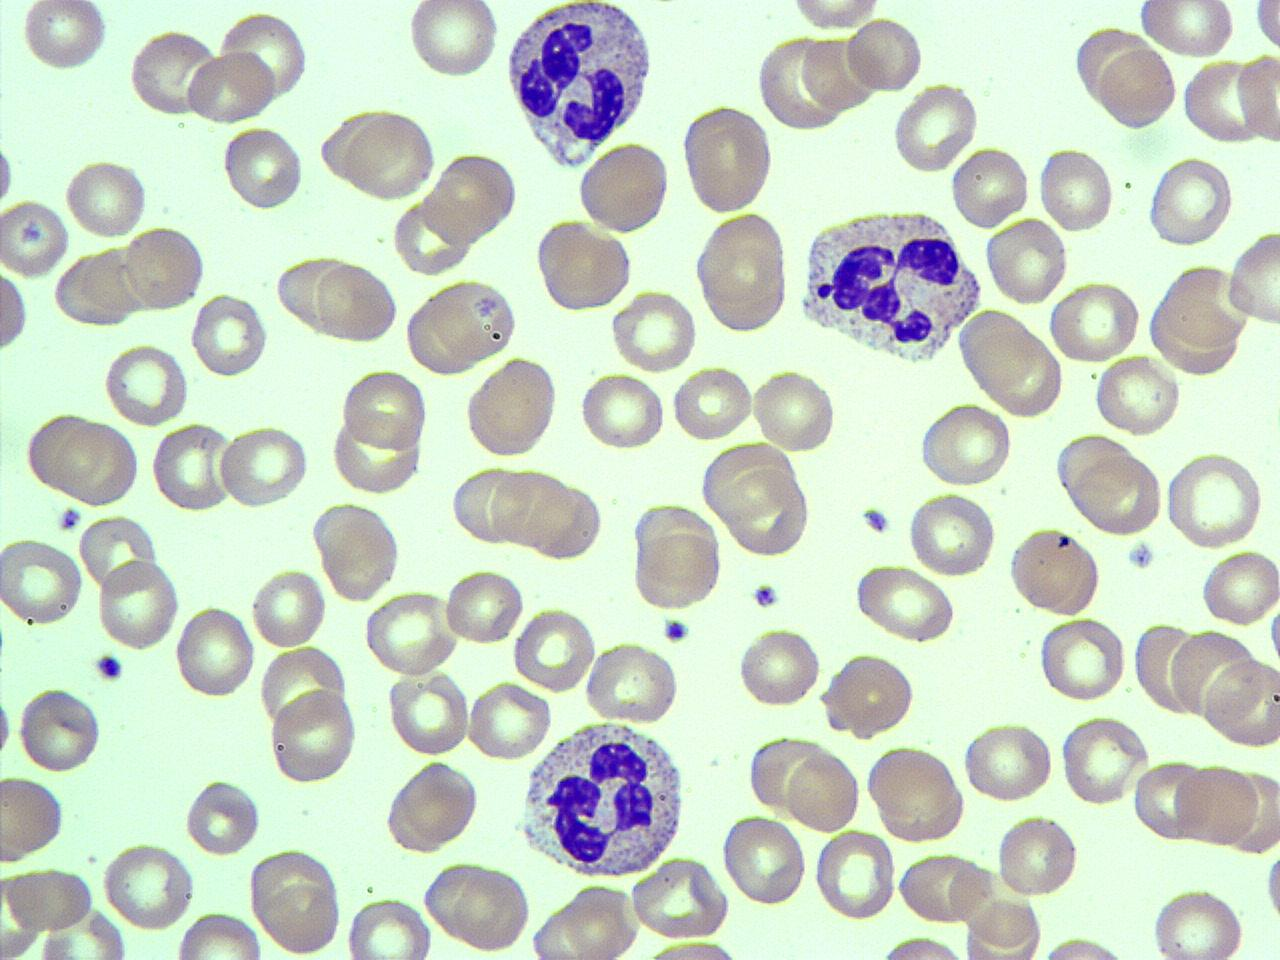Platelets: (0, 689, 16, 763), (92, 650, 126, 684), (1123, 538, 1155, 572), (860, 505, 892, 536), (752, 581, 782, 611), (660, 616, 691, 644), (55, 503, 83, 532)
RBC: (692, 208, 791, 334), (956, 305, 1060, 414), (678, 103, 777, 217), (461, 353, 560, 461), (246, 846, 343, 956), (864, 742, 968, 844), (1164, 448, 1268, 549), (630, 501, 724, 612), (336, 106, 438, 202), (532, 217, 634, 312), (383, 759, 482, 854), (576, 138, 670, 238), (268, 687, 360, 789), (423, 151, 522, 245), (311, 501, 404, 601), (1006, 524, 1103, 618), (437, 860, 533, 954), (218, 6, 310, 104), (100, 840, 197, 932), (362, 586, 462, 675), (820, 648, 918, 738), (127, 25, 220, 118), (1046, 278, 1144, 366), (720, 810, 808, 908), (697, 439, 796, 526), (630, 854, 730, 940), (854, 562, 958, 644), (1037, 614, 1129, 706), (1146, 152, 1234, 248), (918, 400, 1014, 488), (585, 639, 683, 725), (907, 489, 999, 580), (1060, 712, 1148, 806), (890, 80, 978, 174), (426, 278, 521, 365), (175, 602, 257, 702), (15, 684, 106, 774), (217, 422, 310, 510), (725, 468, 813, 560), (338, 366, 430, 454), (984, 214, 1070, 308), (1070, 451, 1166, 535), (95, 556, 179, 652), (1179, 56, 1269, 145), (608, 286, 698, 375), (218, 124, 307, 212), (1090, 352, 1182, 437), (751, 367, 839, 455), (384, 667, 471, 756), (122, 221, 207, 312), (0, 535, 84, 627), (962, 720, 1054, 804), (814, 828, 897, 921), (404, 0, 500, 80), (1172, 760, 1260, 847), (23, 410, 108, 500), (994, 810, 1079, 900), (150, 421, 234, 512), (101, 343, 190, 428), (58, 416, 141, 506), (511, 606, 597, 692), (736, 624, 822, 710), (465, 678, 553, 762), (62, 156, 151, 239), (948, 142, 1031, 231), (1148, 885, 1246, 960), (1202, 654, 1280, 748), (314, 258, 399, 344), (578, 370, 666, 453), (185, 47, 277, 126), (19, 0, 112, 75), (670, 361, 754, 444), (190, 291, 270, 378), (896, 850, 990, 924), (1037, 145, 1115, 234), (251, 564, 329, 652), (785, 748, 863, 836), (442, 565, 525, 647), (526, 479, 606, 564), (747, 733, 831, 813), (844, 13, 924, 96), (183, 775, 263, 857), (1099, 47, 1177, 131), (1053, 428, 1139, 504), (1198, 548, 1278, 628), (0, 772, 68, 864), (488, 468, 566, 547), (4, 866, 97, 932), (344, 894, 434, 960), (1, 196, 72, 278), (1137, 0, 1237, 58), (1225, 227, 1279, 326), (171, 910, 264, 960), (1234, 52, 1280, 144), (783, 0, 889, 33), (0, 258, 30, 362), (1033, 934, 1137, 960), (871, 934, 975, 960), (638, 938, 754, 960), (1253, 0, 1279, 54)
WBC: (789, 201, 984, 370), (516, 716, 691, 882), (500, 0, 658, 170)
